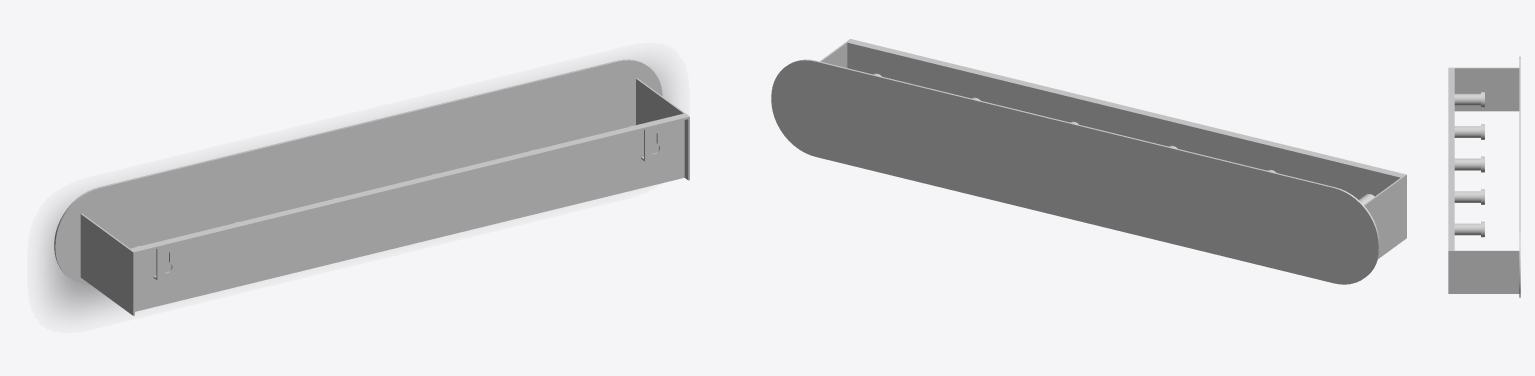
File: round-hook.e14ae745f7.ar.glb
3 renders of one model, left to right at view 1: azimuth 30°, elevation 25°; view 2: azimuth 150°, elevation 25°; view 3: azimuth 270°, elevation 25°, orthographic. The views are drawn at different scales.
Parts seen in each view (by area): view 1: NAUO1, object 2; view 2: NAUO1; view 3: NAUO1.
Boxes of the visible parts, x1=… form: NAUO1: x1=54, y1=59, x2=689, y2=315; object 2: x1=46, y1=66, x2=669, y2=310; NAUO1: x1=771, y1=39, x2=1406, y2=284; NAUO1: x1=1448, y1=56, x2=1520, y2=297.
Bounding box in the file's own units: 0.68 × 0.17 × 0.092.
2 materials, 1 textured.
